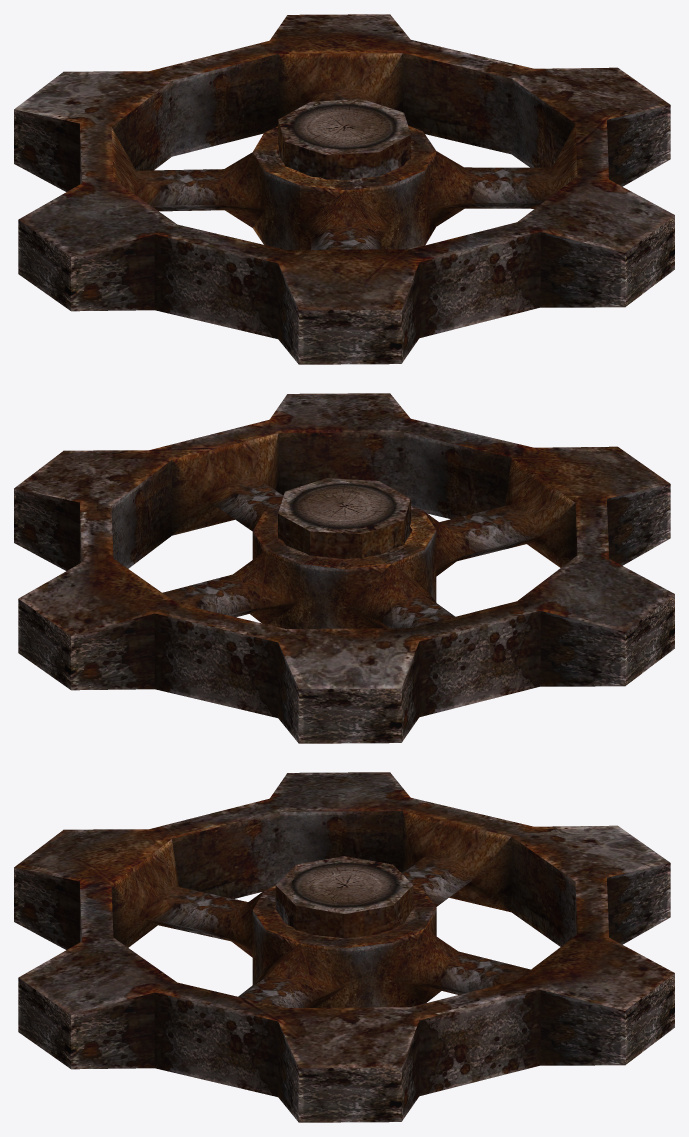
File: cogwheel_medium.dae
The picture shows the model from 3 angles, top to bottom: view 1: azimuth 30°, elevation 25°; view 2: azimuth 150°, elevation 25°; view 3: azimuth 270°, elevation 25°; orthographic projection.
Visible parts, largest first — view 1: polySurface13, pCylinder8; view 2: polySurface13, pCylinder8; view 3: polySurface13, pCylinder8.
Part boxes in pixels (box(x1,y1,x2,y2)): polySurface13: box(14, 14, 674, 364); pCylinder8: box(278, 99, 410, 180); polySurface13: box(14, 393, 674, 743); pCylinder8: box(278, 478, 410, 559); polySurface13: box(14, 772, 674, 1122); pCylinder8: box(275, 856, 413, 938).
Size of the model in its own units: 1.77 by 0.3016 by 1.67.
